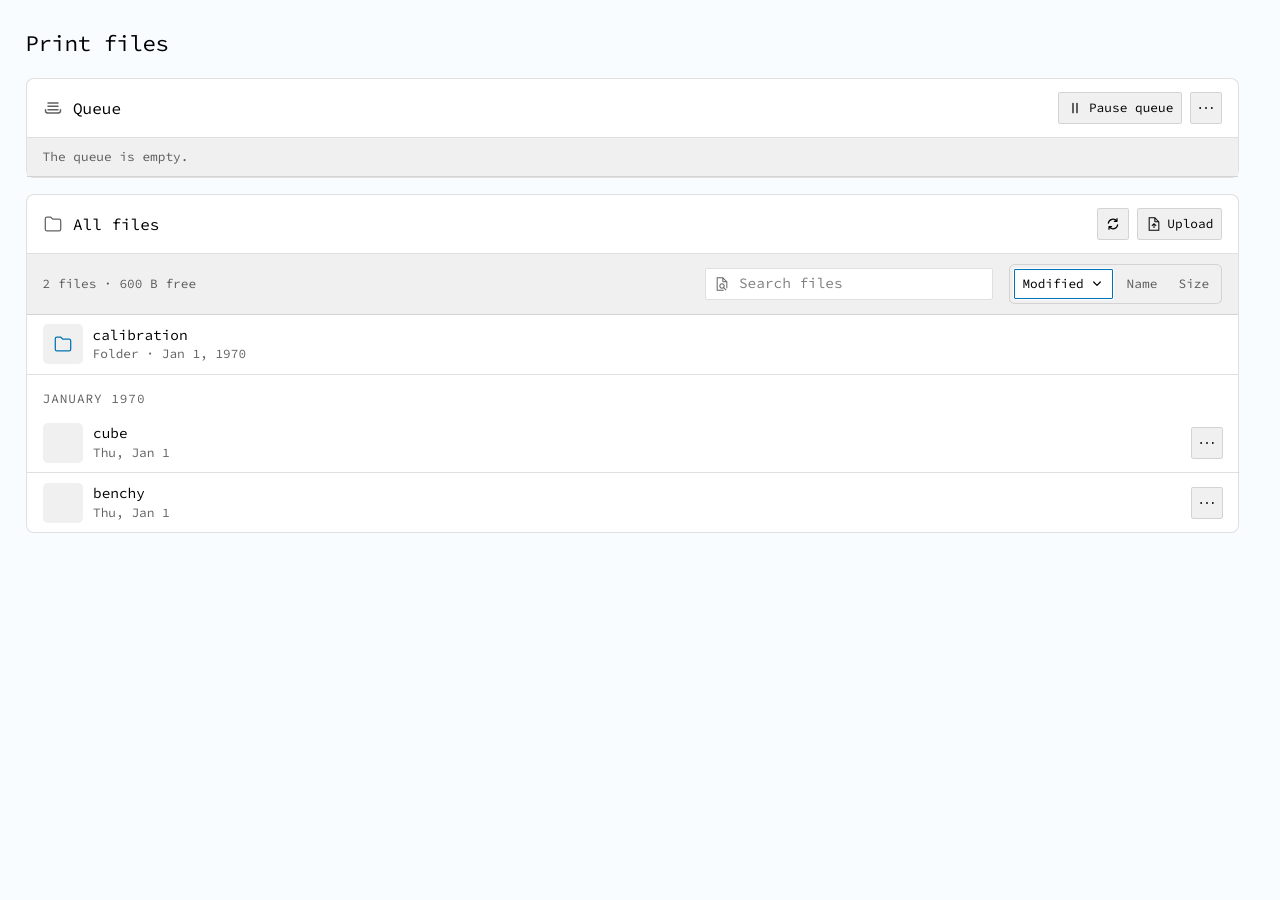
Test: Print files view › refuses to start a second print while one is running, and says why
Click the button with class "machine-row__toggle" showing "cube Thu, Jan 1".
click(63, 443)  # box [43, 423, 1050, 463]
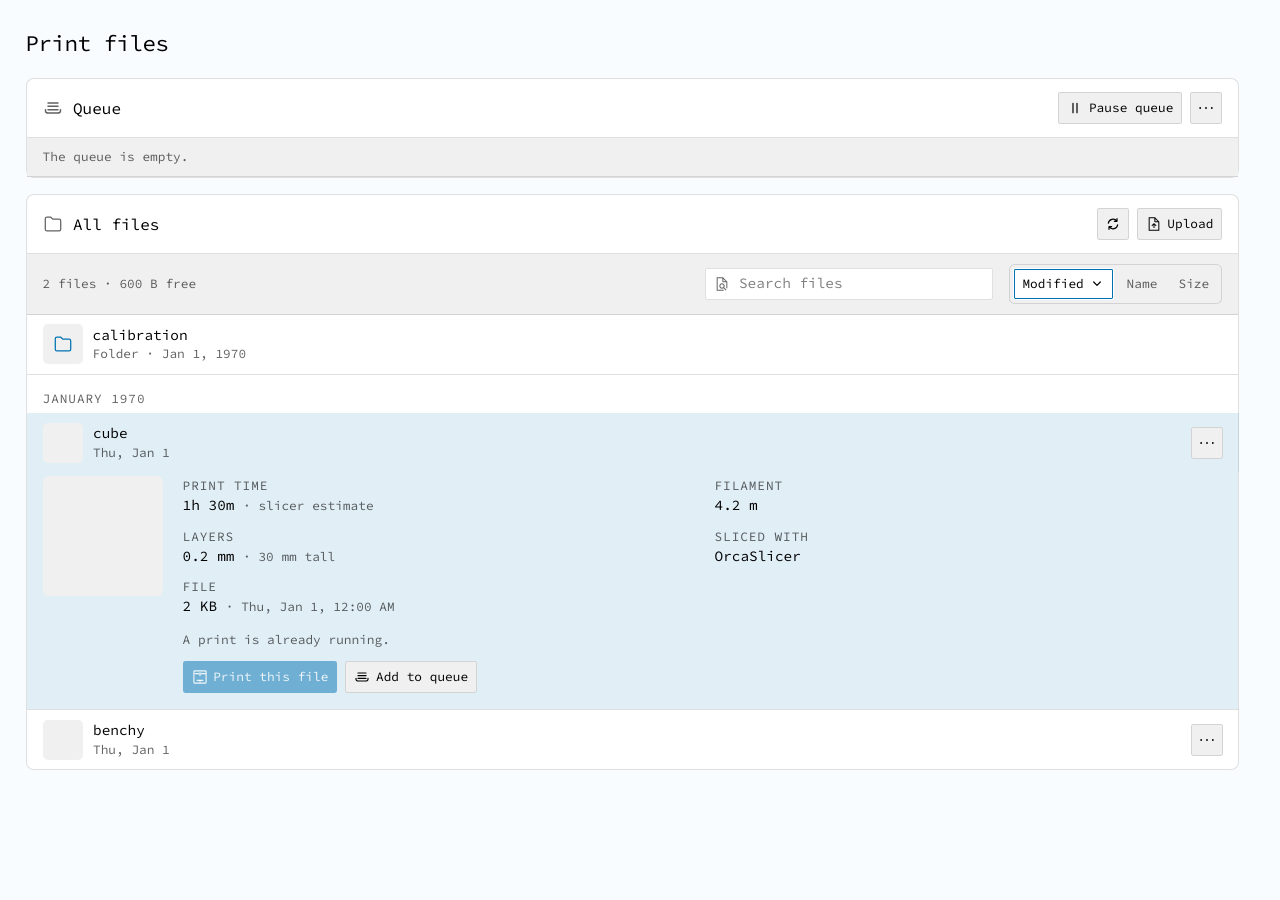
Expected: the button "Print this file" is disabled, [183, 661, 337, 693]
Expected: the element with class "machine-row-expansion" shows "A print is already running.", [183, 631, 390, 647]
